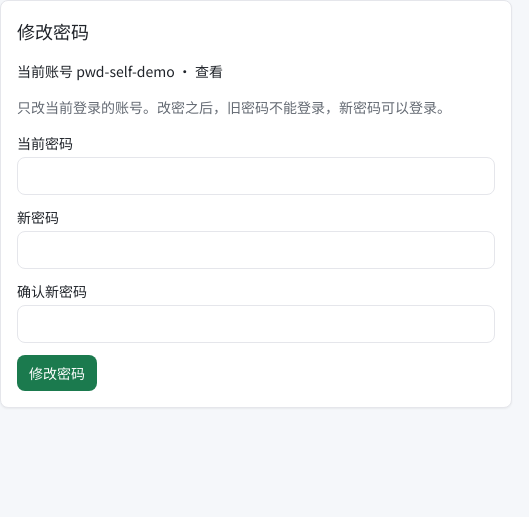
Test case: ChangePasswordView › shows the current account and posts only the two password fields
The width and height of the screenshot is (529, 517).
expect the element with test id "password-self-account" shows "pwd-self-demo": met, box [17,61,175,81]
expect the element with test id "password-self-account" shows "查看": met, box [175,61,223,81]
In the password field with test id "password-self-current": {"x": 256, "y": 176} [17,157,495,195], type "PwdOld@123456"
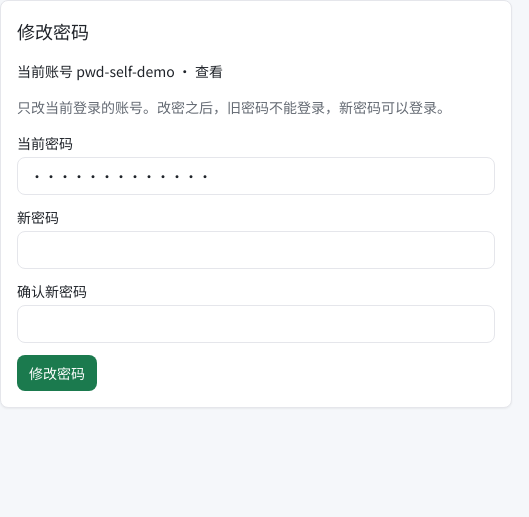
In the password field with test id "password-self-new": {"x": 256, "y": 250} [17,231,495,269], type "PwdNew@123456"
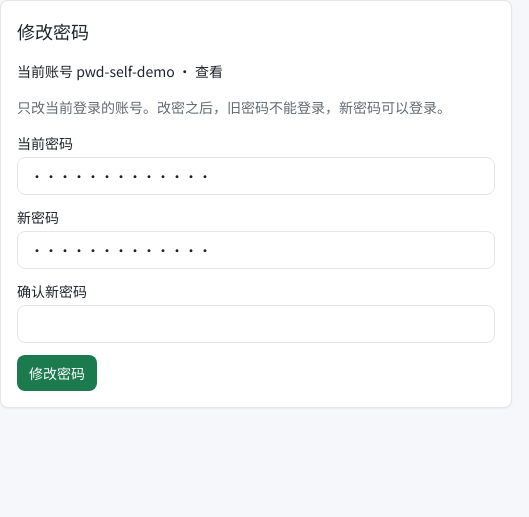
In the password field with test id "password-self-confirm": {"x": 256, "y": 324} [17,305,495,343], type "PwdNew@123456"
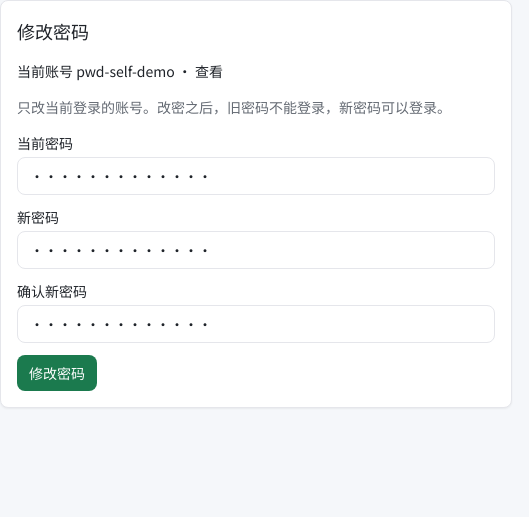
Submit the form with test id "password-self-form", box [17,133,495,391]
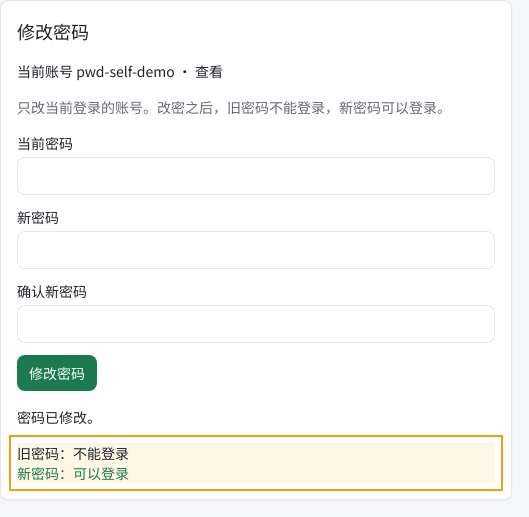
expect the element with test id "password-self-result" shows "旧密码：不能登录": met, box [17,443,129,463]
expect the element with test id "password-self-result" shows "新密码：可以登录": met, box [17,463,129,483]
